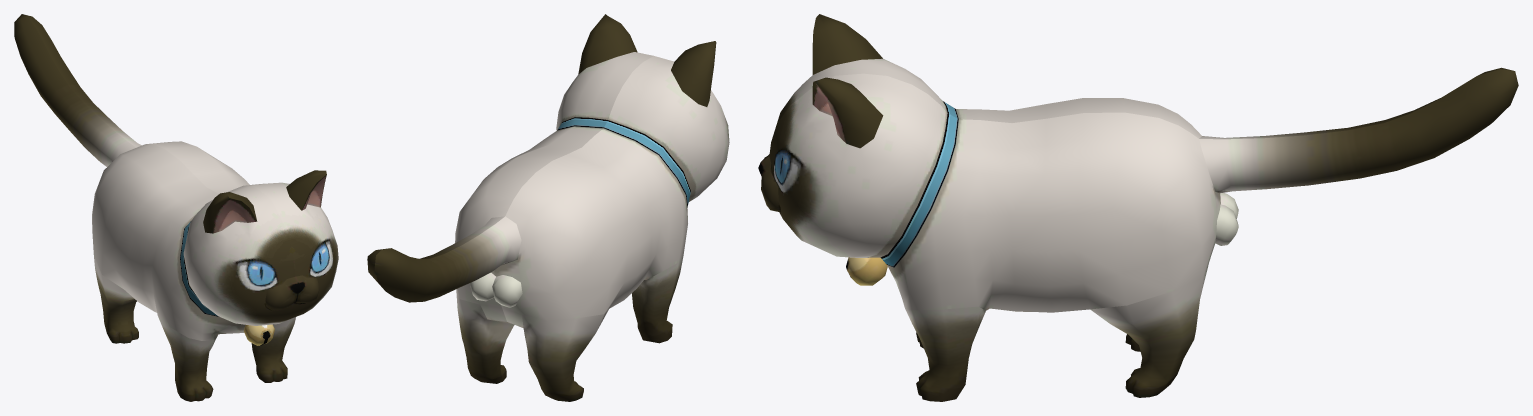
Rendered from siamese-cat.fbx.
3 views of the same model, side by side, from view 1: azimuth 30°, elevation 25°; view 2: azimuth 150°, elevation 25°; view 3: azimuth 270°, elevation 25° (orthographic). The views are drawn at different scales.
Parts seen in each view (by area): view 1: JYCmaoL_7_0_L_0; view 2: JYCmaoL_7_0_L_0; view 3: JYCmaoL_7_0_L_0.
Part boxes in pixels (x1,y1,x2,y2): JYCmaoL_7_0_L_0: [14, 14, 338, 401]; JYCmaoL_7_0_L_0: [367, 14, 729, 401]; JYCmaoL_7_0_L_0: [758, 14, 1518, 401].
Size of the model in its own units: 0.4161 by 0.7044 by 1.51.
Materials: 1 (1 with a texture image).
